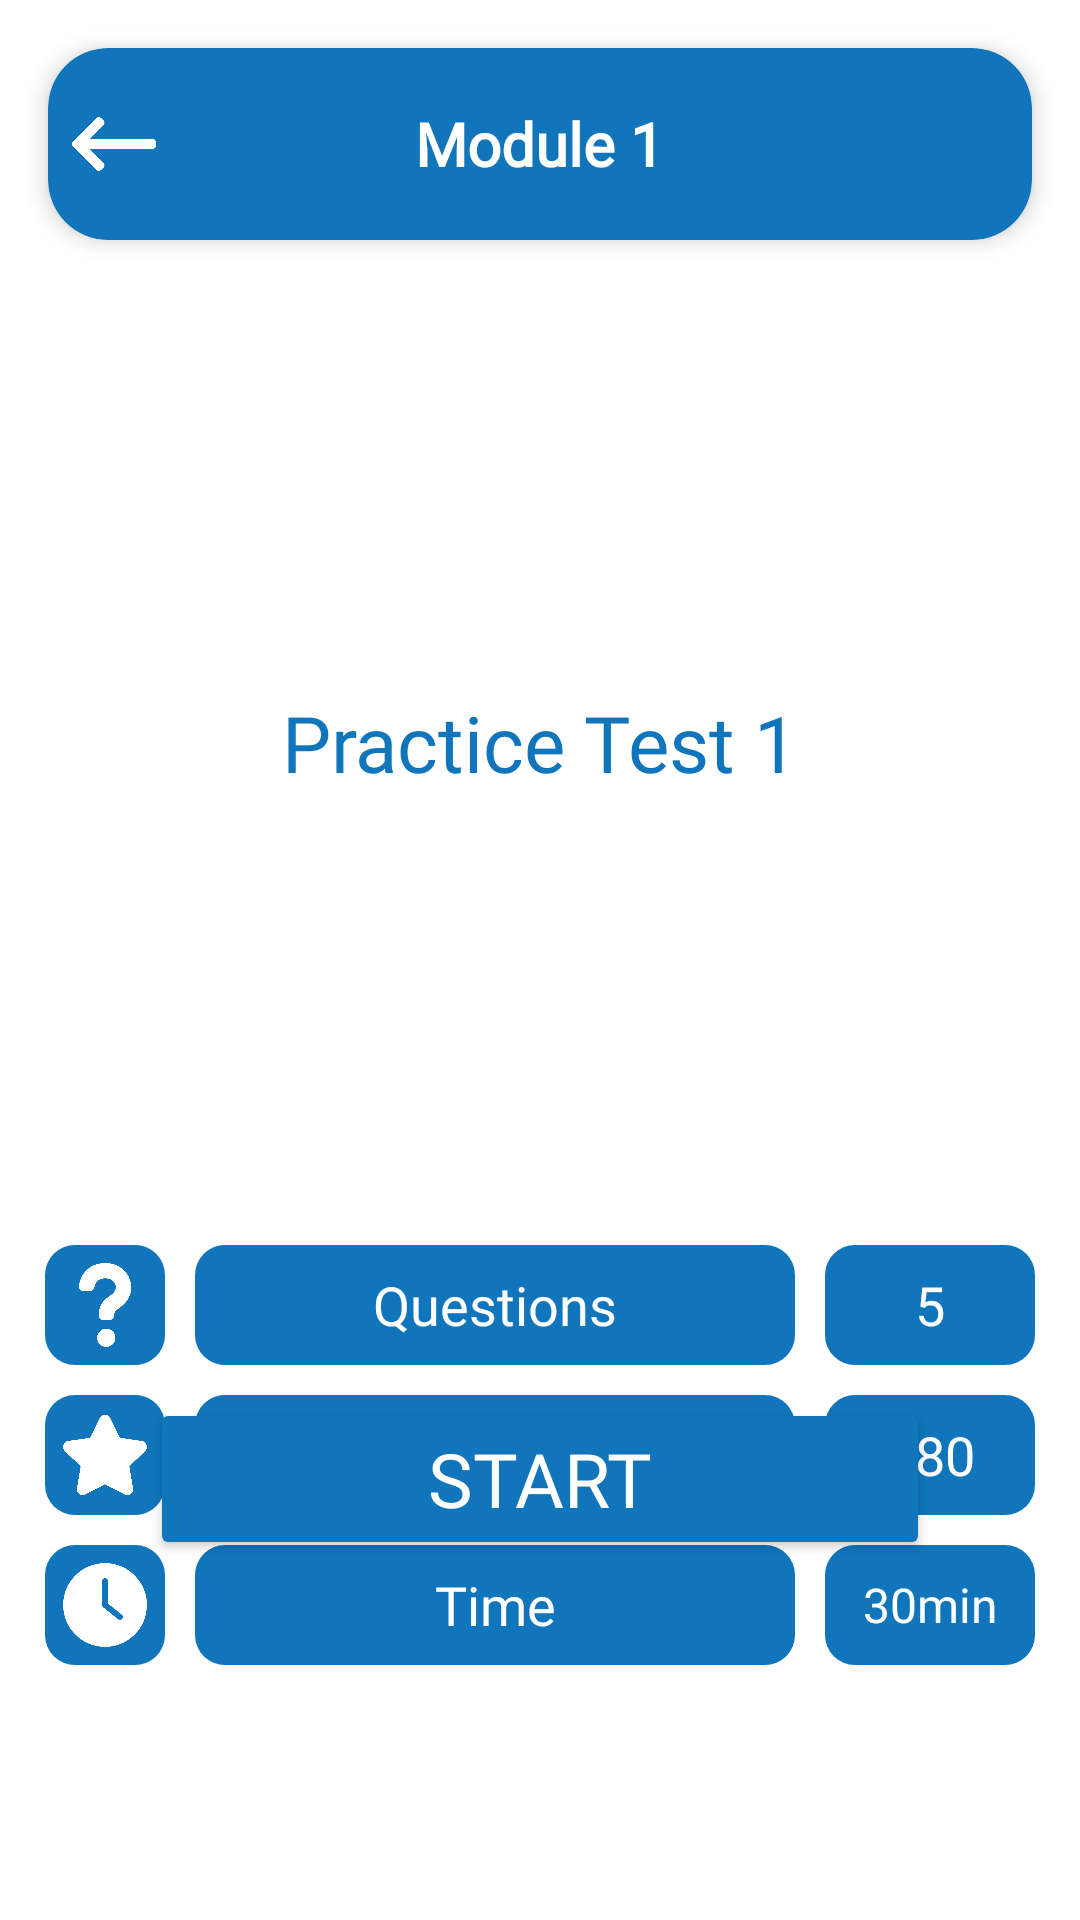

Named icons in this screenshot (1080x1920) and their centers, point (x, y):
Back: point (114, 144)
clock: point (105, 1605)
questionmark: point (105, 1305)
